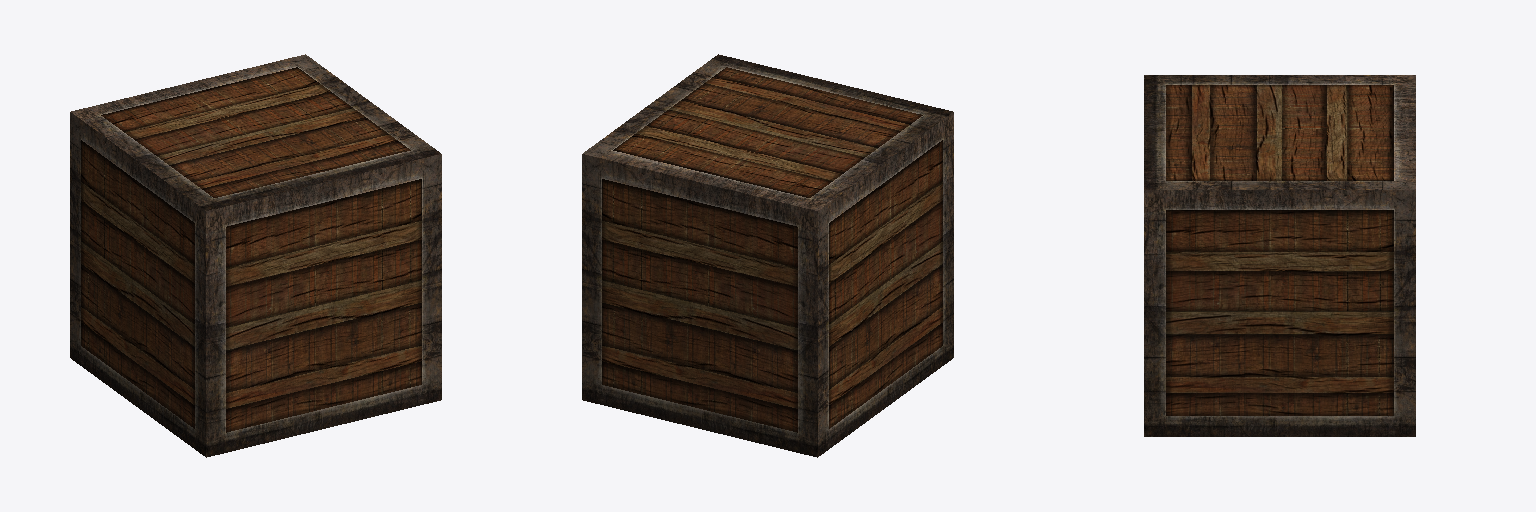
The picture shows the model from 3 angles: view 1: azimuth 30°, elevation 25°; view 2: azimuth 150°, elevation 25°; view 3: azimuth 270°, elevation 25°; orthographic projection.
Parts seen in each view (by area): view 1: Boxes; view 2: Boxes; view 3: Boxes.
Boxes of the visible parts, box(x1,y1,x2,y2) form: Boxes: box(70, 54, 441, 457); Boxes: box(582, 54, 953, 457); Boxes: box(1144, 75, 1415, 436).
Size of the model in its own units: 2 by 2 by 2.
1 materials, 1 textured.